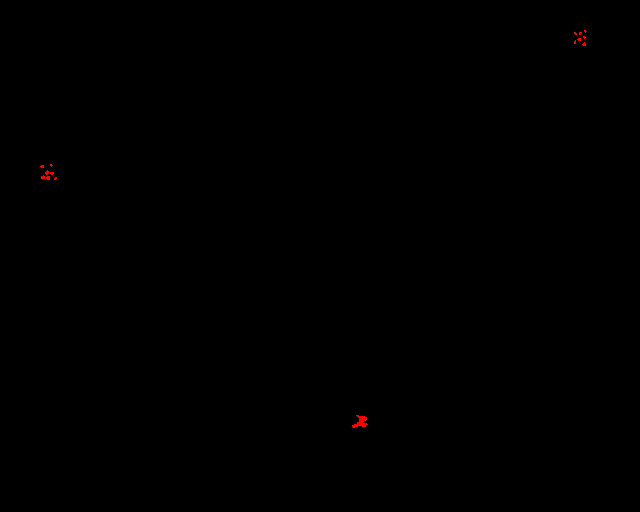Target: (352, 415, 368, 428), (45, 170, 49, 175), (582, 42, 586, 46), (41, 175, 45, 179), (46, 176, 50, 180), (577, 38, 581, 41), (40, 165, 44, 168), (50, 172, 54, 175), (584, 30, 587, 33), (574, 32, 577, 35), (579, 32, 582, 35), (583, 36, 586, 39), (50, 164, 53, 167), (54, 177, 57, 180), (574, 40, 576, 44)
